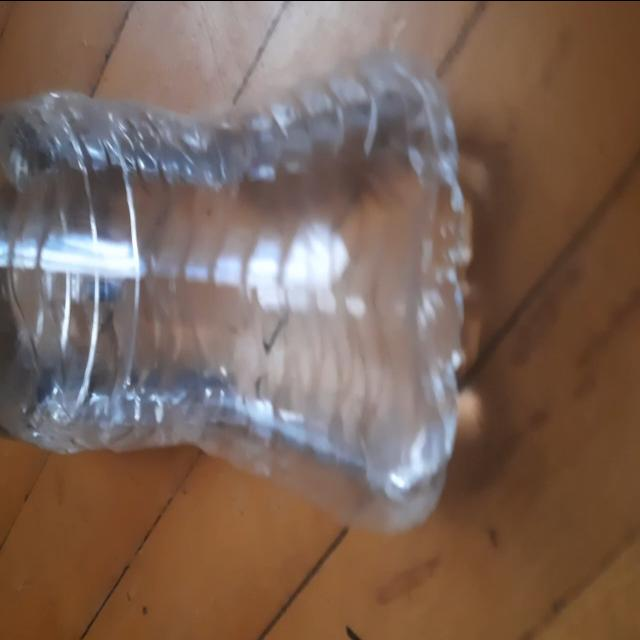Plastic: (0, 80, 456, 504)
